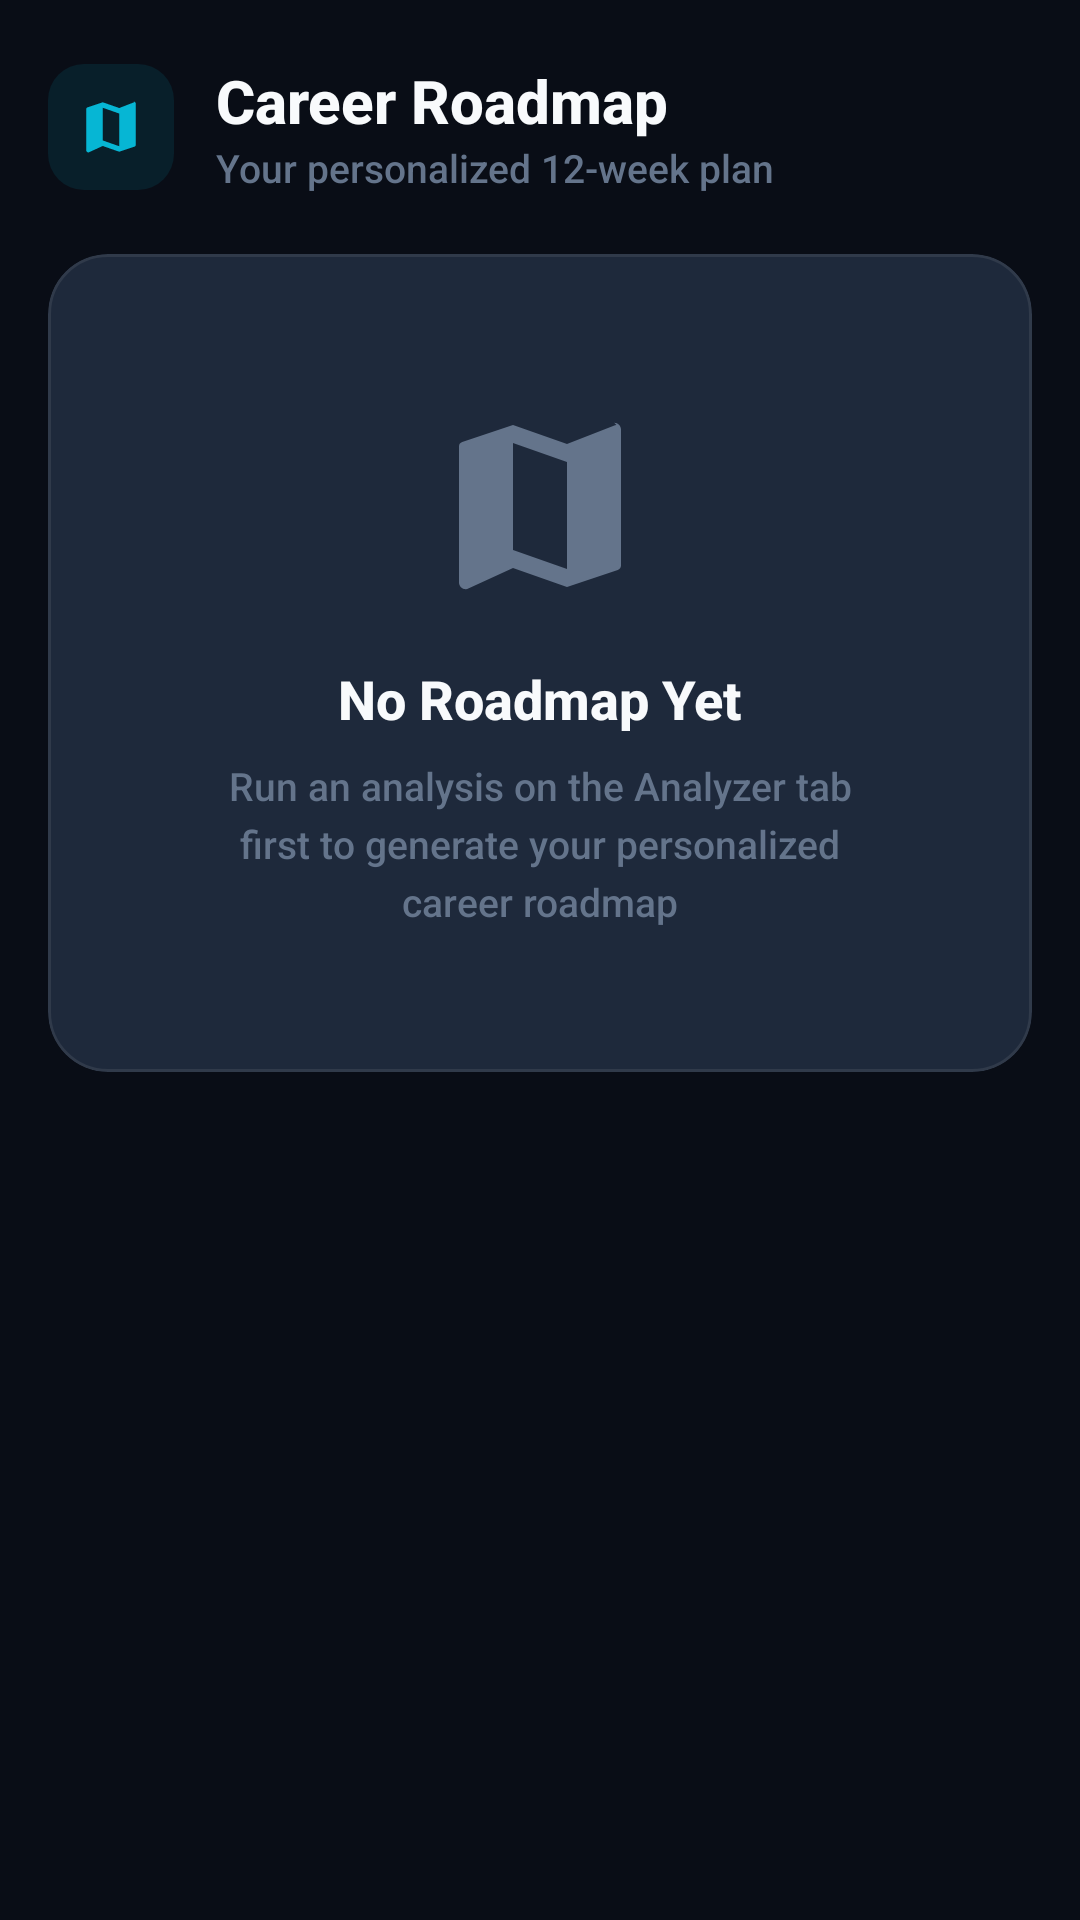

Where icons sit on this 1080 × 1920 app screen, as box(x1, y1, x2, y2):
map: box(86, 101, 136, 153), box(459, 423, 621, 589)
